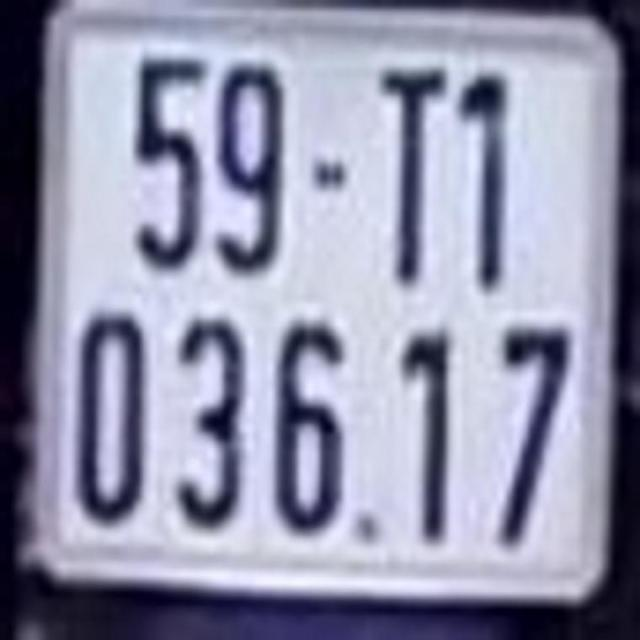0: (76, 305, 145, 521)
1: (398, 324, 453, 544), (457, 62, 507, 290)
3: (178, 313, 242, 530)
5: (134, 52, 206, 271)
6: (278, 314, 341, 527)
7: (498, 314, 568, 546)
9: (220, 61, 282, 276)
T: (376, 56, 448, 285)
